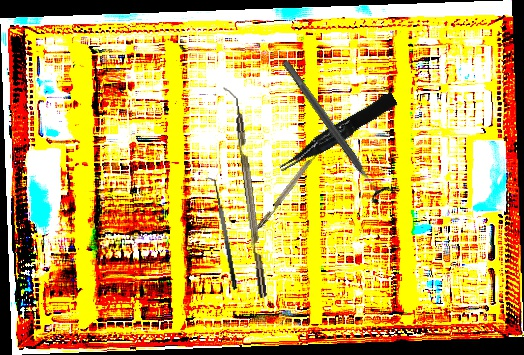Chopper: (244, 130, 339, 248), (223, 84, 267, 300)
Fixation Ring: (273, 52, 397, 208)
Spatula Surgical: (205, 175, 238, 292)
Tissue Forceps: (273, 91, 401, 175)
